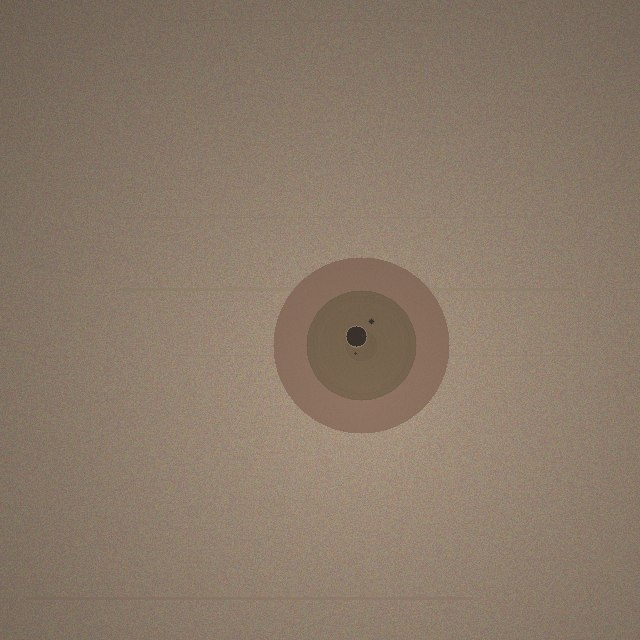shrinkage: (273, 257, 449, 433)
